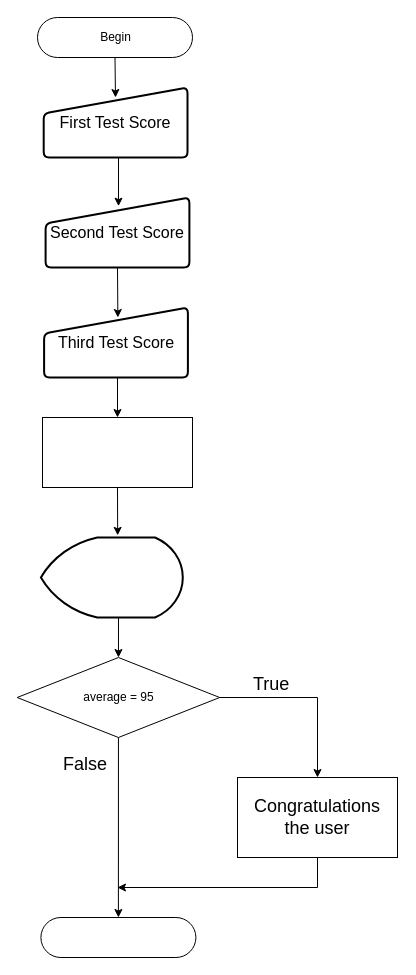
This 416x975 diagram has some shape labels left out. Each missing label, with the centre of its shape:
Calculate the average: the point at 117,452
Display the average: the point at 111,577
End: the point at 118,937
